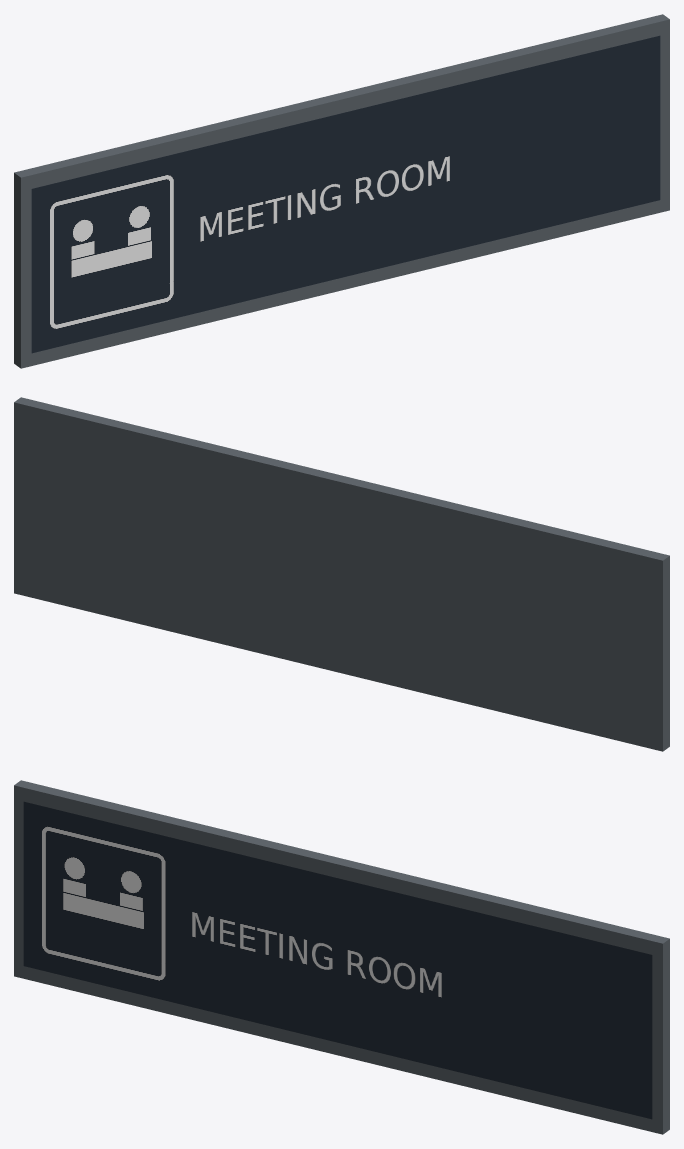
The model's file is 13_wall_meeting_room.glb.
3 renders of one model, top to bottom at view 1: azimuth 30°, elevation 25°; view 2: azimuth 150°, elevation 25°; view 3: azimuth 330°, elevation 25°, orthographic.
Parts seen in each view (by area): view 1: Sign_Face, Housing; view 2: Housing; view 3: Sign_Face, Housing.
Part boxes in pixels (bbox=[...]): Sign_Face: bbox=[31, 35, 660, 353]; Housing: bbox=[14, 14, 669, 368]; Housing: bbox=[14, 397, 669, 751]; Sign_Face: bbox=[23, 801, 652, 1119]; Housing: bbox=[14, 780, 669, 1134].
Size of the model in its own units: 0.64 by 0.18 by 0.013.
2 materials, 1 textured.
